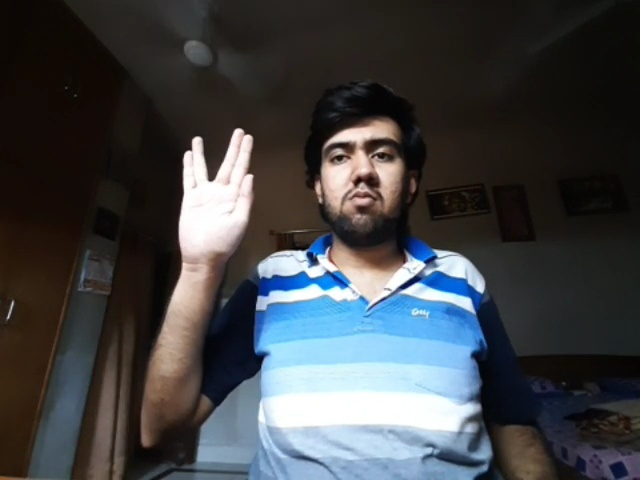LiveLong: (179, 127, 254, 251)
